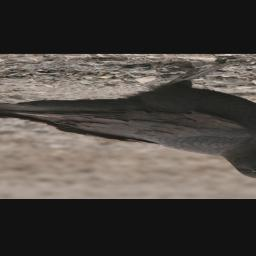Crow: (0, 59, 256, 180)
